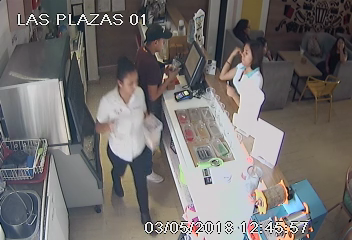ocupado: (238, 26, 352, 116)
